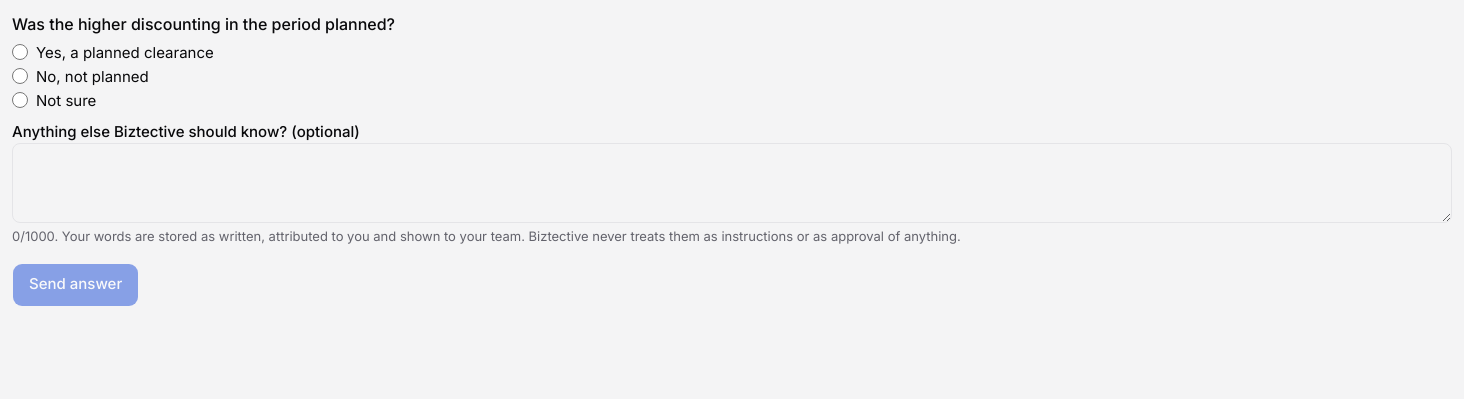
QuestionForm › reloads when the question changed (stale_checkpoint)
Click the radio button labelled "Not sure": {"x": 20, "y": 100} [12,92,28,108]
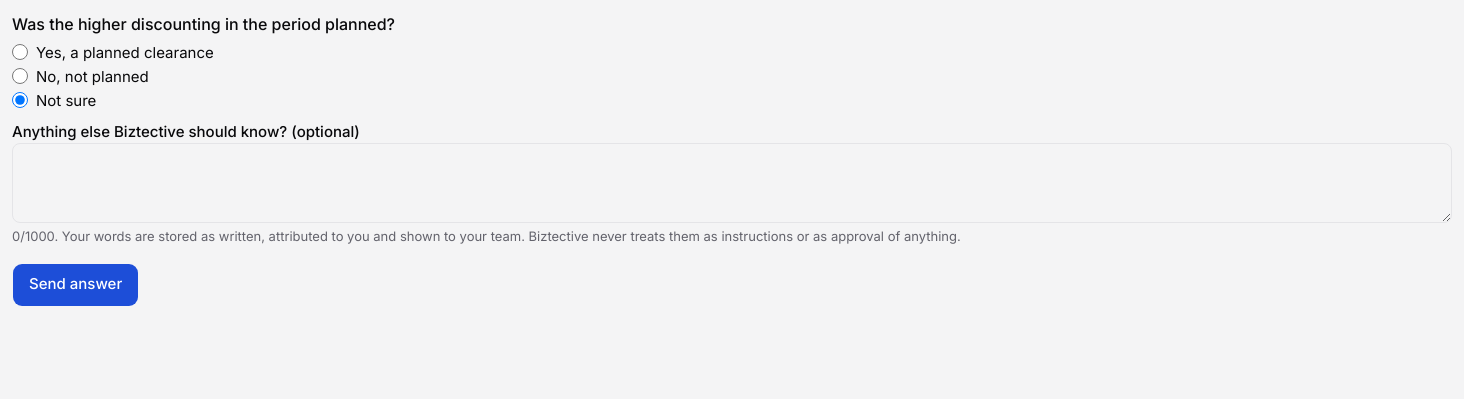
Click the button "Send answer": {"x": 76, "y": 284} [12,262,139,306]
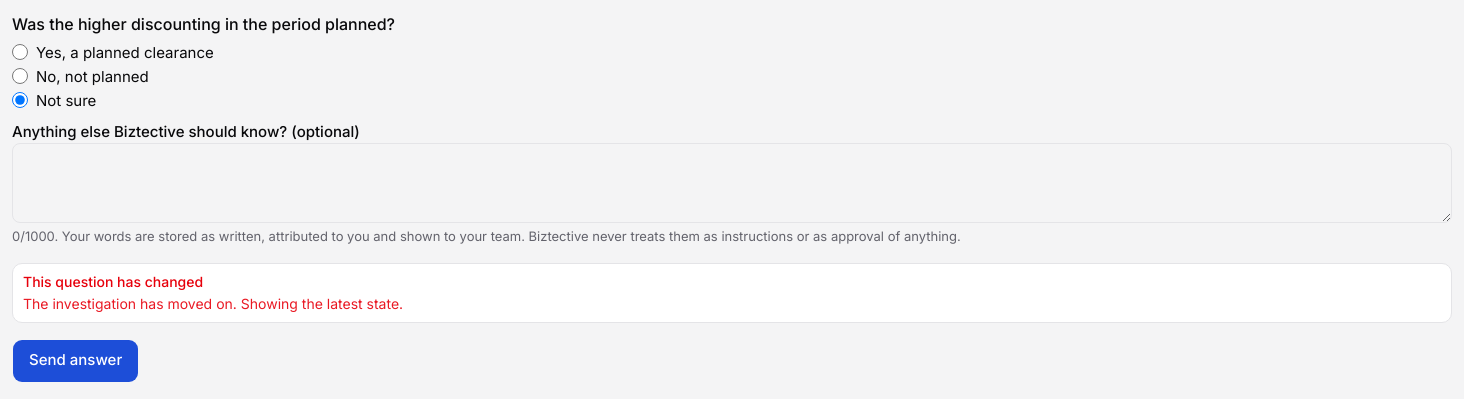
Now the message shows "This question has changed", box [23,272,203,290]
